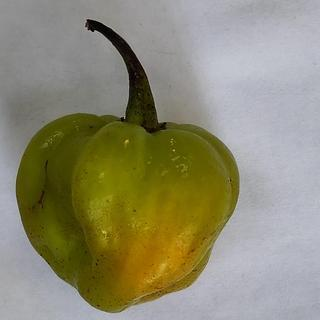Fly-bites: (86, 119, 97, 133), (130, 207, 138, 216), (90, 274, 97, 283), (93, 302, 102, 308), (83, 249, 89, 255), (86, 288, 91, 295), (95, 262, 99, 268), (96, 259, 101, 262)
striped: (27, 158, 52, 210)
